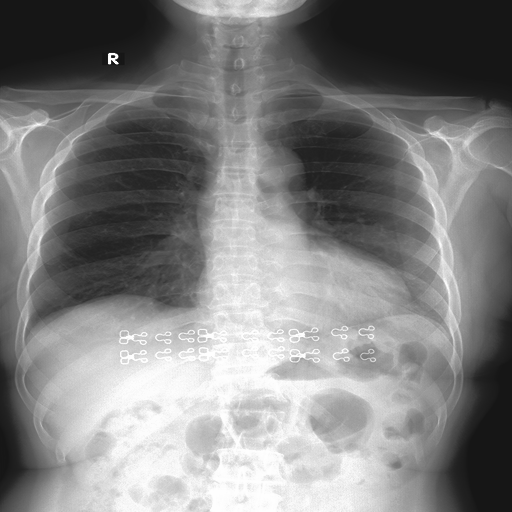Consolidation: (240, 143, 303, 198)
Nodule/Mass: (188, 279, 419, 312)
